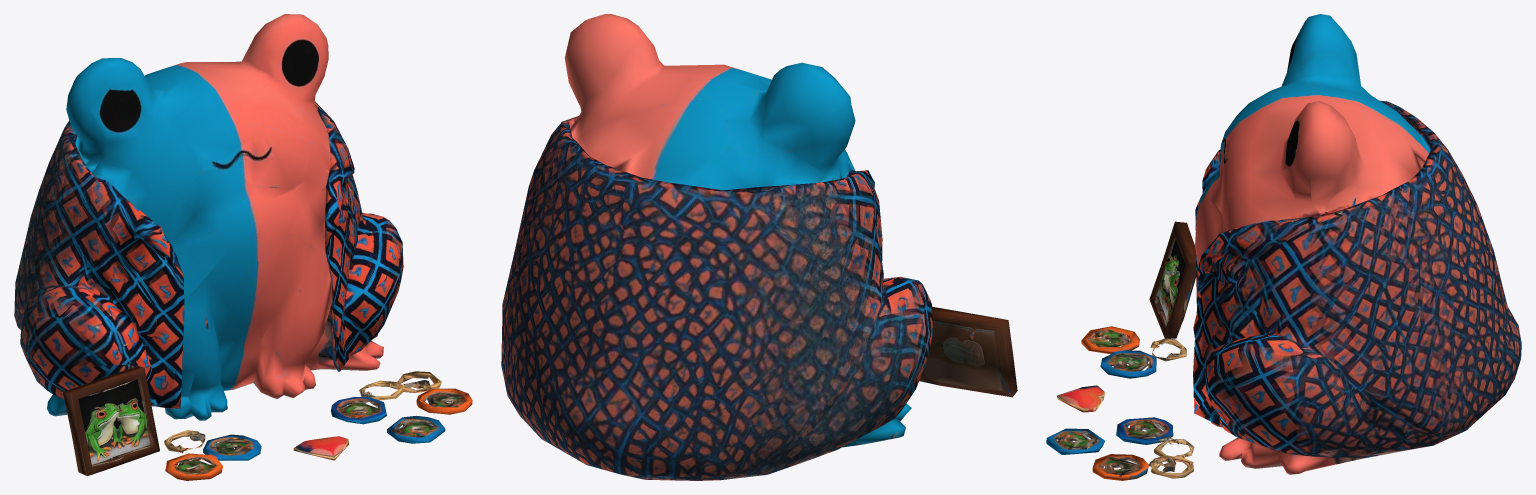
Rendered from jumeaux.glb.
3 renders of one model, left to right at view 1: azimuth 30°, elevation 25°; view 2: azimuth 150°, elevation 25°; view 3: azimuth 270°, elevation 25°, orthographic. The views are drawn at different scales.
Parts seen in each view (by area): view 1: mesh_node; view 2: mesh_node; view 3: mesh_node.
Part boxes in pixels (<box>): mesh_node: <box>14,14,472,480</box>; mesh_node: <box>501,14,1017,480</box>; mesh_node: <box>1046,14,1521,480</box>.
Size of the model in its own units: 1.79 by 1.48 by 1.9.
Materials: 1 (1 with a texture image).
